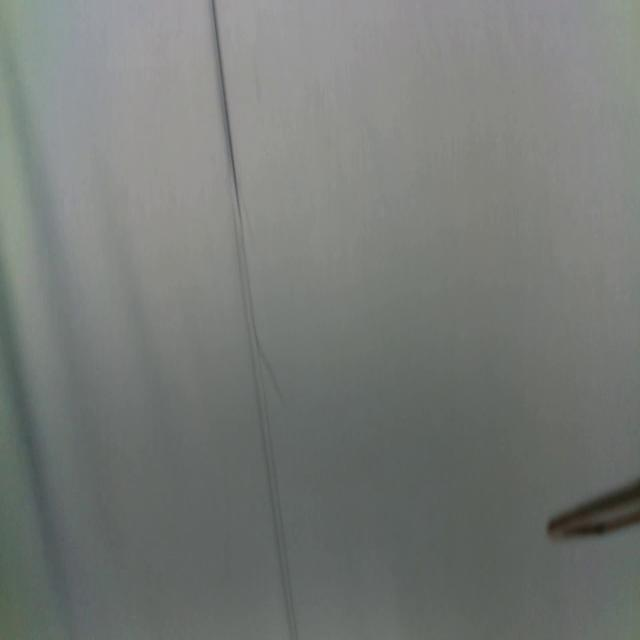crease: (213, 0, 297, 640)
